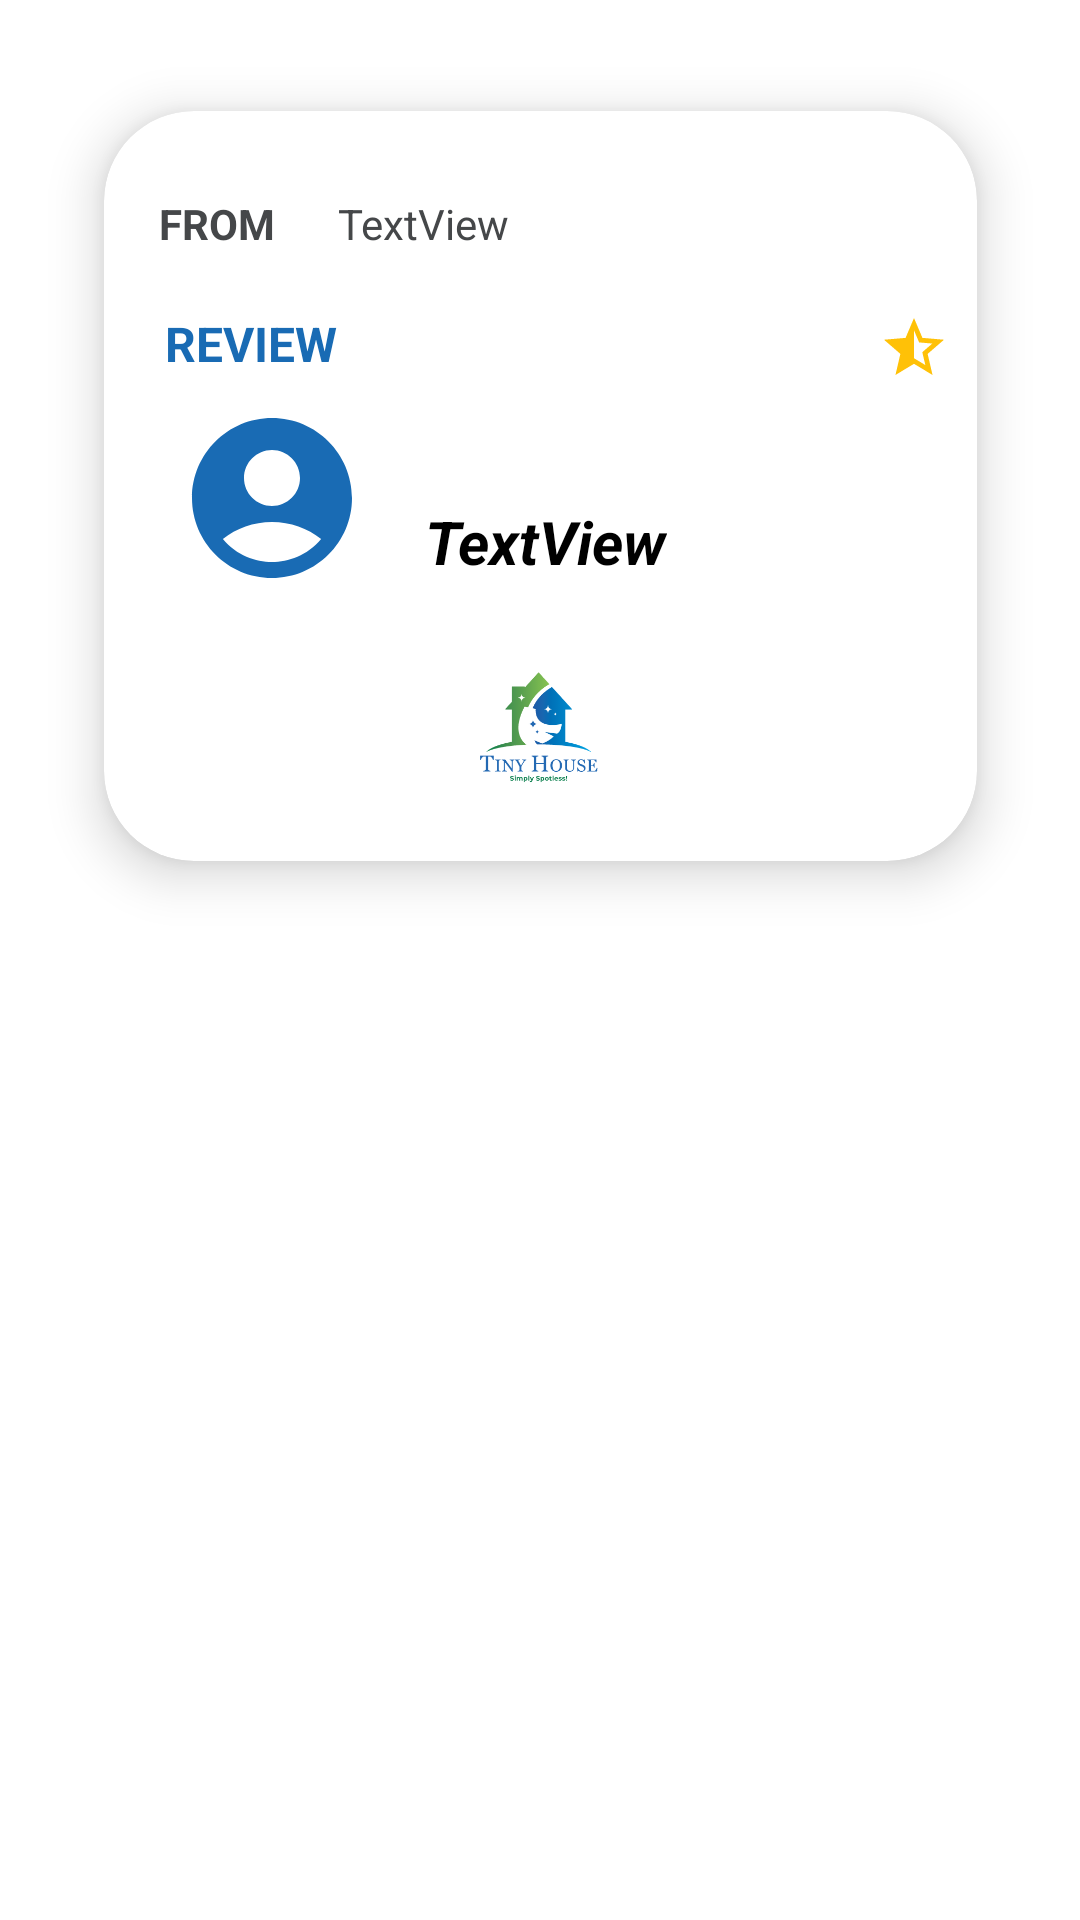

Screen size 1080w x 1920h. Icon name, then its box in pixels as (x1, y1, x2, y2):
account circle: (192, 418, 352, 578)
star half: (884, 318, 944, 375)
